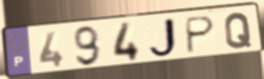4: (111, 20, 143, 63), (38, 30, 66, 69)
9: (72, 24, 104, 68)
J: (147, 16, 182, 60)
P: (185, 14, 218, 56)
Q: (223, 11, 253, 50)
